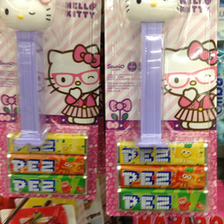candy: (105, 1, 216, 217), (1, 1, 99, 199)
